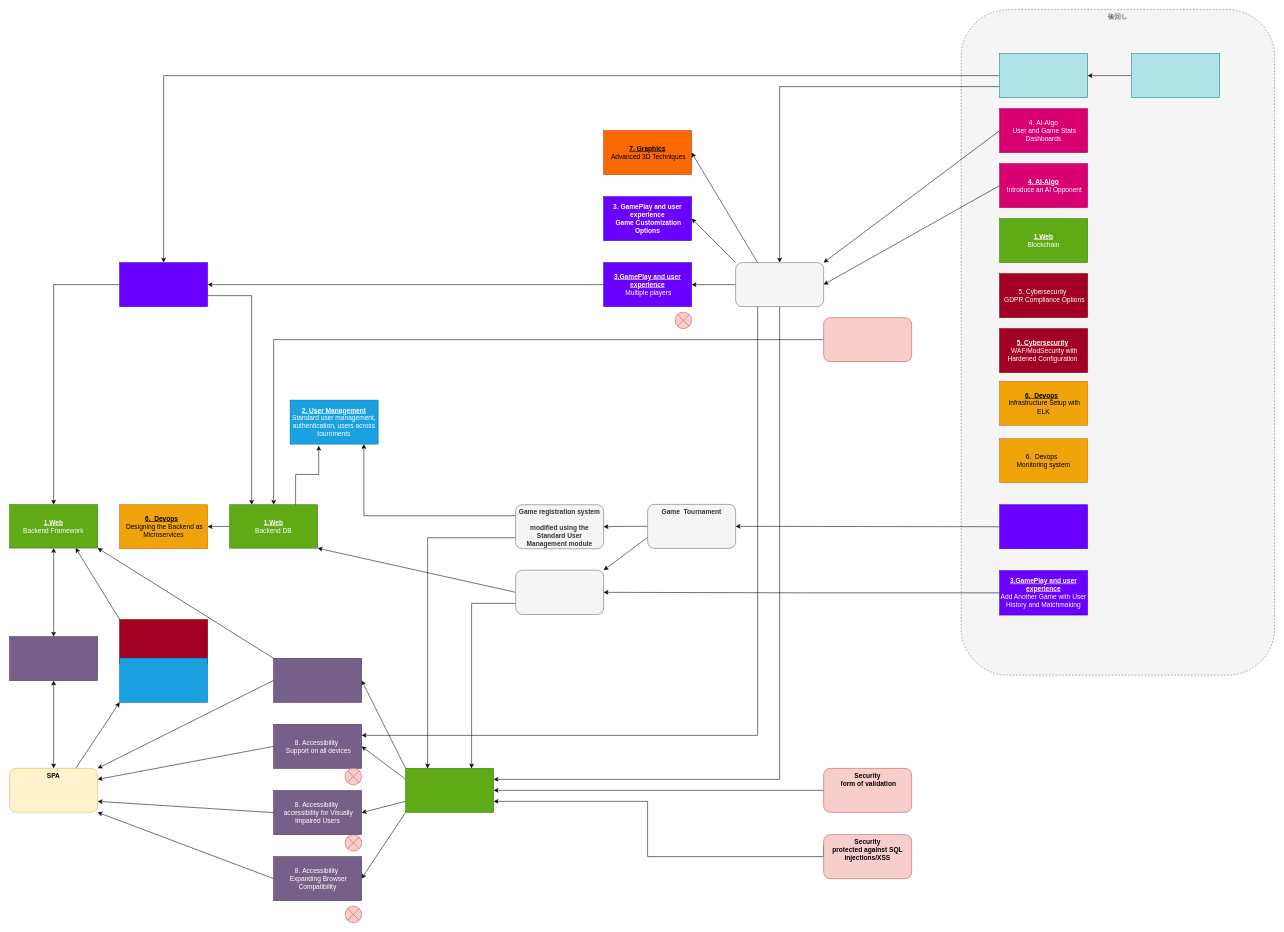
Image size: 1284x932. Some labels were removed from this diagram. Here are the shapes that lost their labels. From the top down, the centre of each, then its label:
At pixel 1043 75: "9. Server-Side Pong Enabling Pong Gameplay via CLI".
At pixel 1175 75: "9. Server-Side Pong Replacing Basic Pong with Server-Side Pong".
At pixel 163 284: "3.GamePlay and user experience Remote players".
At pixel 779 284: "Game Pong".
At pixel 867 339: "Security database must be hashed".
At pixel 1043 526: "3. GamePlay and user experience Live Chat".
At pixel 559 592: "Game matchmaking system".
At pixel 53 658: "8. Accessibility Server-Side Rendering (SSR)".
At pixel 163 641: "5. Cybersecurity Two-Factor Authentication (2FA) and JWT".
At pixel 163 680: "2. User Management Remote authenitication".
At pixel 317 680: "8. Accessibility Multiple language supports.".
At pixel 449 790: "1.Web Frontend Framework".
